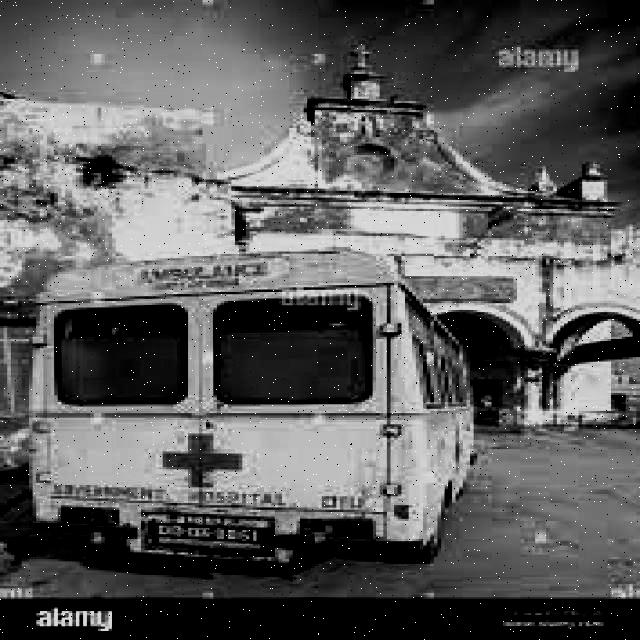LCV: (34, 247, 418, 553)
